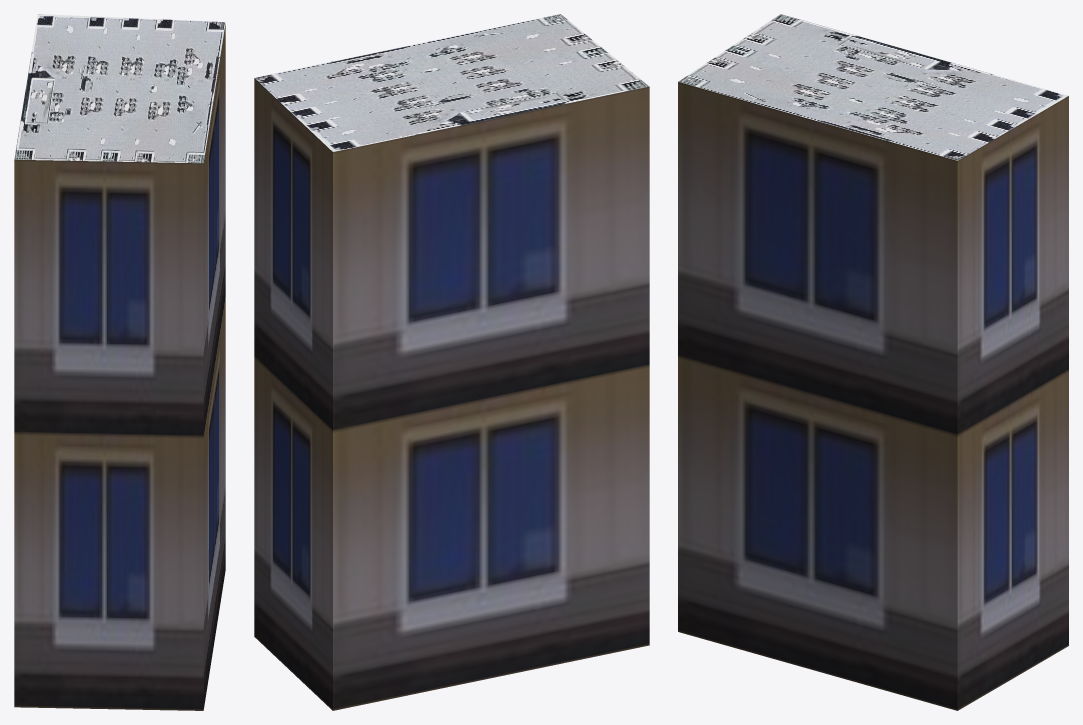
File: ResTex__3085.fbx
3 renders of one model, left to right at view 1: azimuth 30°, elevation 25°; view 2: azimuth 150°, elevation 25°; view 3: azimuth 270°, elevation 25°, orthographic. The views are drawn at different scales.
Parts seen in each view (by area): view 1: CityEngineMaterial_5_m, CityEngineMaterial_m; view 2: CityEngineMaterial_5_m, CityEngineMaterial_m; view 3: CityEngineMaterial_5_m, CityEngineMaterial_m.
Part boxes in pixels (<box>): CityEngineMaterial_5_m: <box>14,24,225,710</box>; CityEngineMaterial_m: <box>14,14,225,163</box>; CityEngineMaterial_5_m: <box>254,78,649,710</box>; CityEngineMaterial_m: <box>254,14,649,151</box>; CityEngineMaterial_5_m: <box>678,82,1068,710</box>; CityEngineMaterial_m: <box>678,14,1068,160</box>.
Size of the model in its own units: 3.43 by 6 by 3.86.
2 materials, 2 textured.
